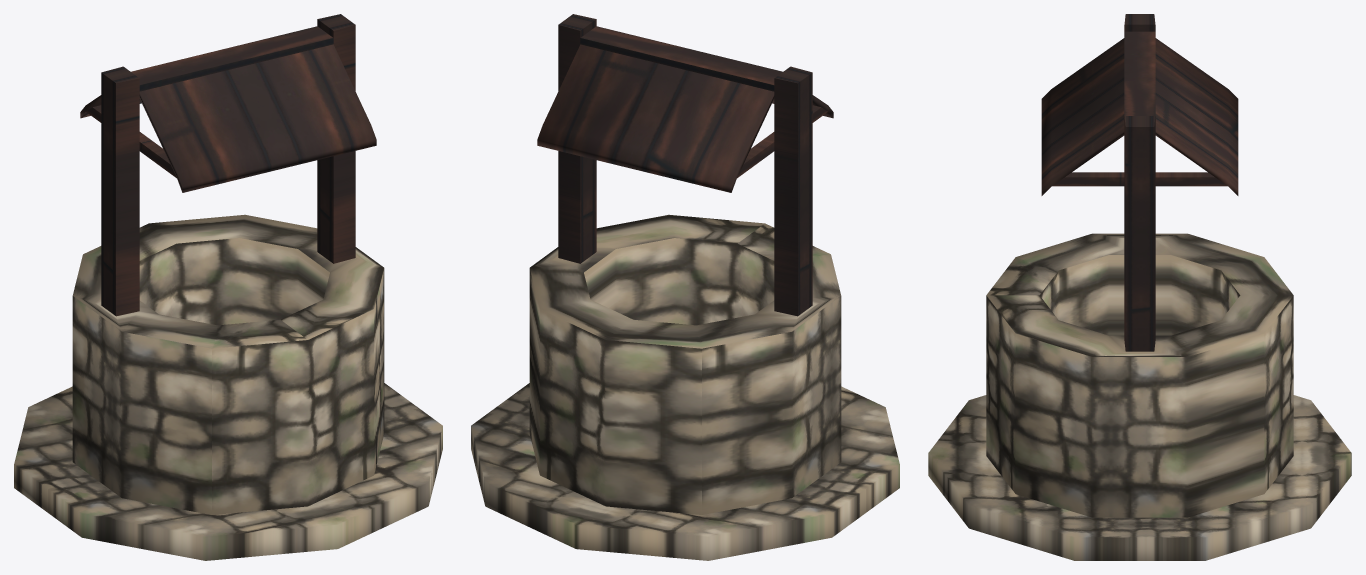
Rendered from stoneWell.fbx.
The picture shows the model from 3 angles, left to right: view 1: azimuth 30°, elevation 25°; view 2: azimuth 150°, elevation 25°; view 3: azimuth 270°, elevation 25°; orthographic projection. The views are drawn at different scales.
Parts seen in each view (by area): view 1: Cylinder; view 2: Cylinder; view 3: Cylinder.
Part boxes in pixels (x1,y1,x2,y2): Cylinder: [14, 14, 442, 560]; Cylinder: [471, 14, 899, 560]; Cylinder: [928, 14, 1351, 560].
Size of the model in its own units: 683 by 760 by 718.
